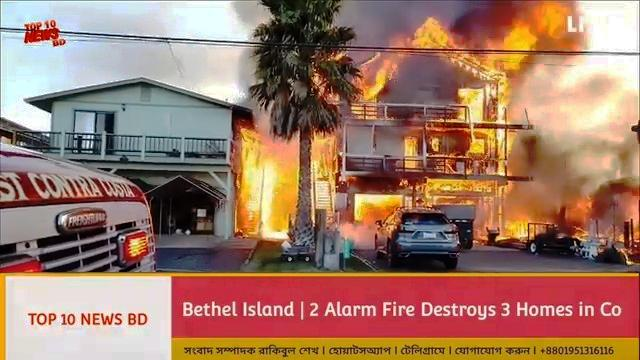fire: (242, 132, 291, 231), (489, 14, 537, 71), (411, 9, 453, 59), (503, 209, 542, 242), (354, 194, 397, 217)
smoke: (518, 149, 612, 181)
